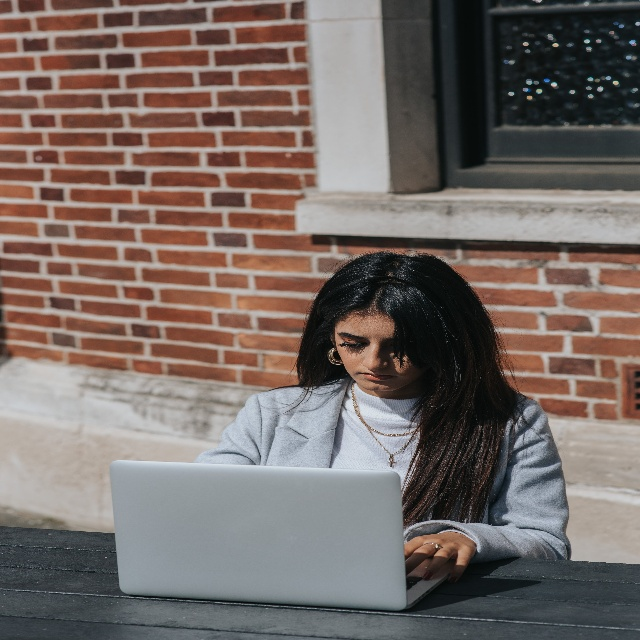Sin_guantes: (403, 519, 477, 588)
